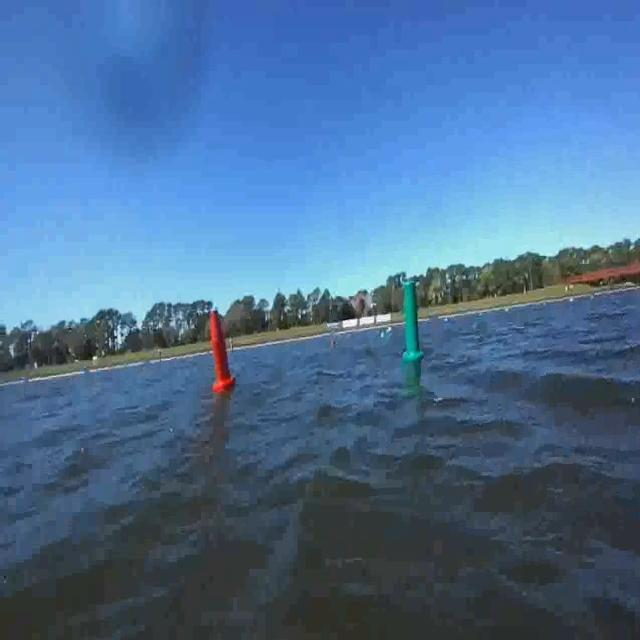green-column-buoy: (400, 280, 423, 362)
red-column-buoy: (208, 309, 234, 392)
